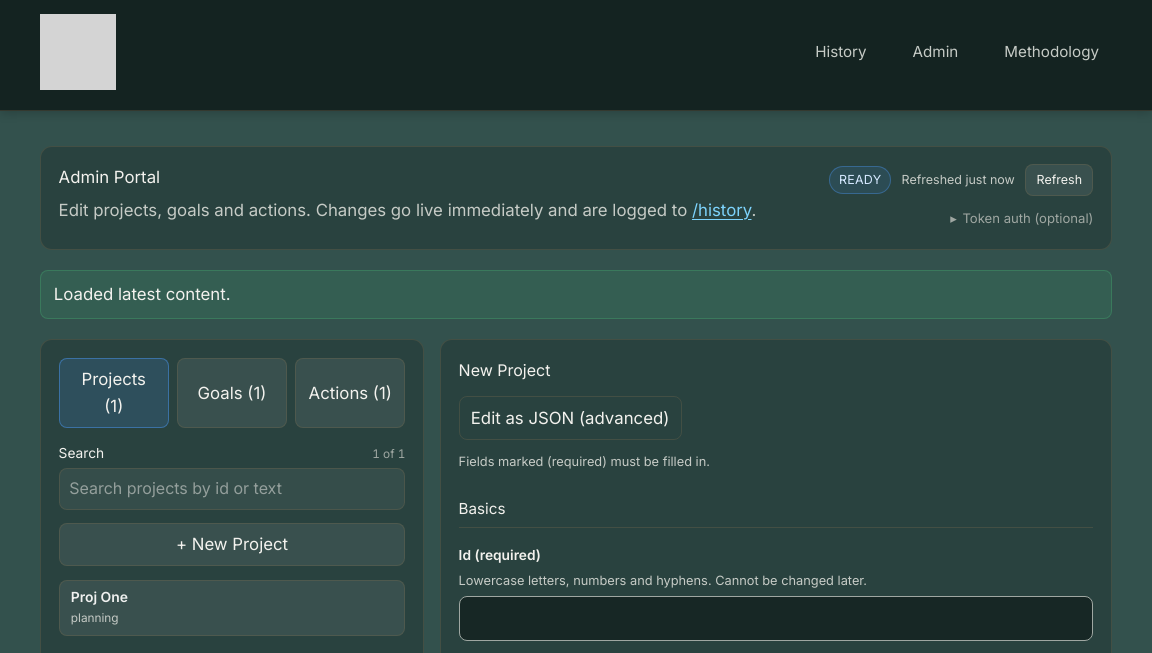
it: archive and restore › says unsaved changes will be lost when archiving an edited record
Step 1. Click the tab "Goals (1)" → (232, 393), box [177,358,287,428]
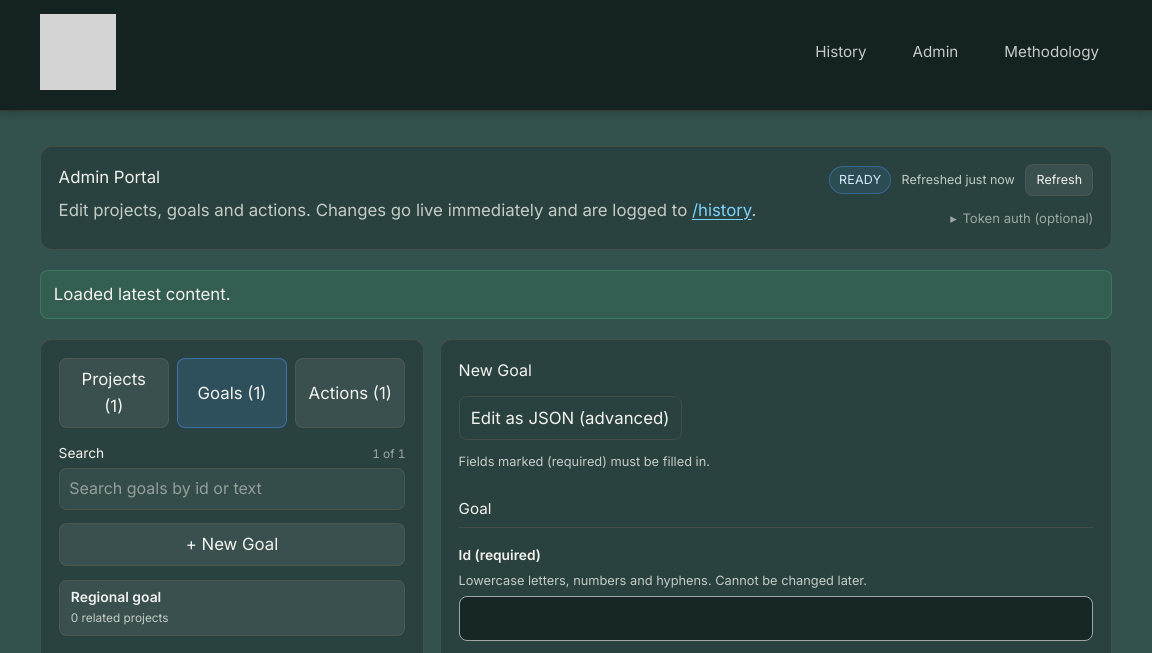
Step 2. Click the button "Regional goal 0 related projects" → (116, 597), box [59,580,405,636]
(page scrolled)
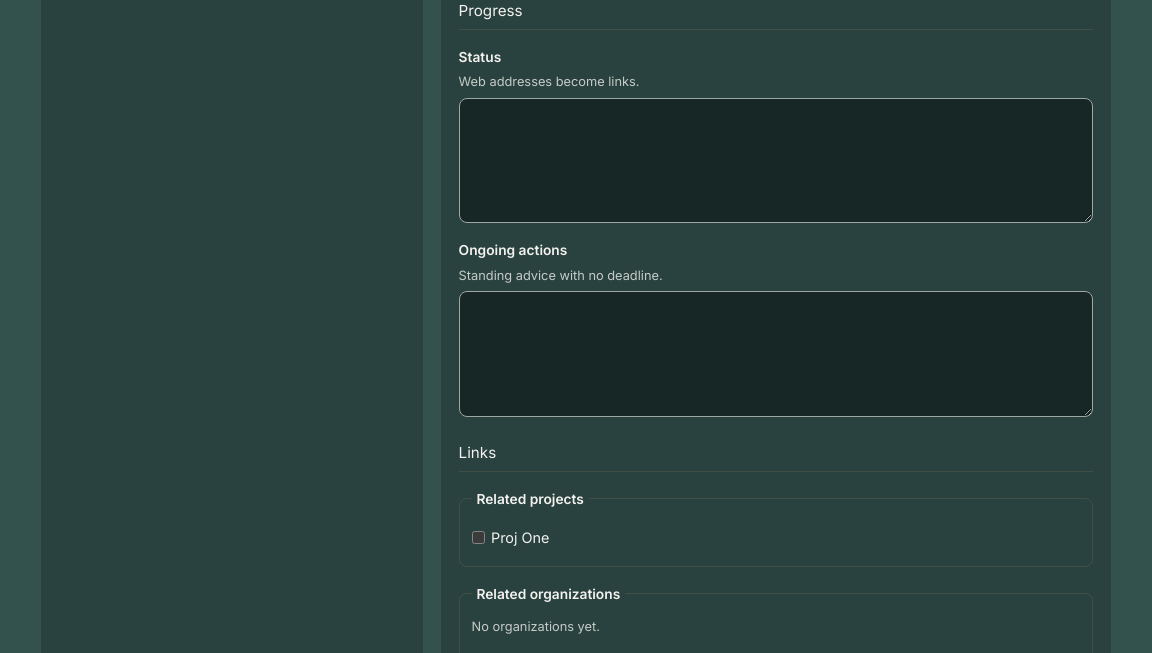
Step 3. Type "Mine" into the text box labelled "Ongoing actions" → (776, 354), box [459,291,1093,417]
(page scrolled)
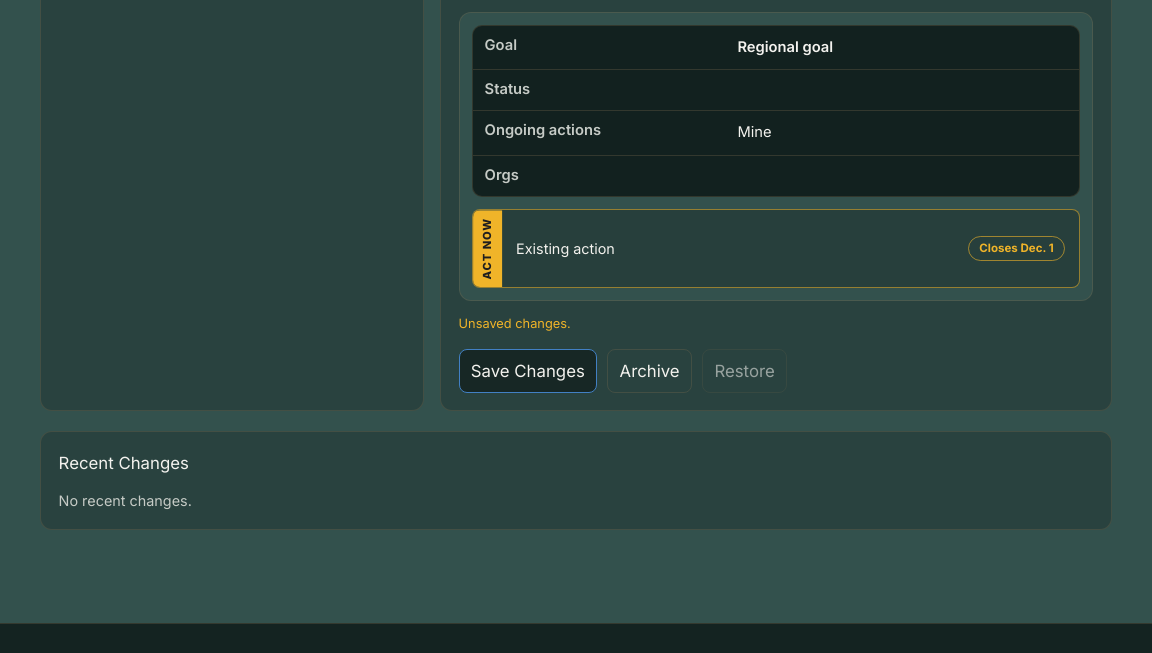
Step 4. Click the button "Archive" → (650, 371), box [607,349,692,393]
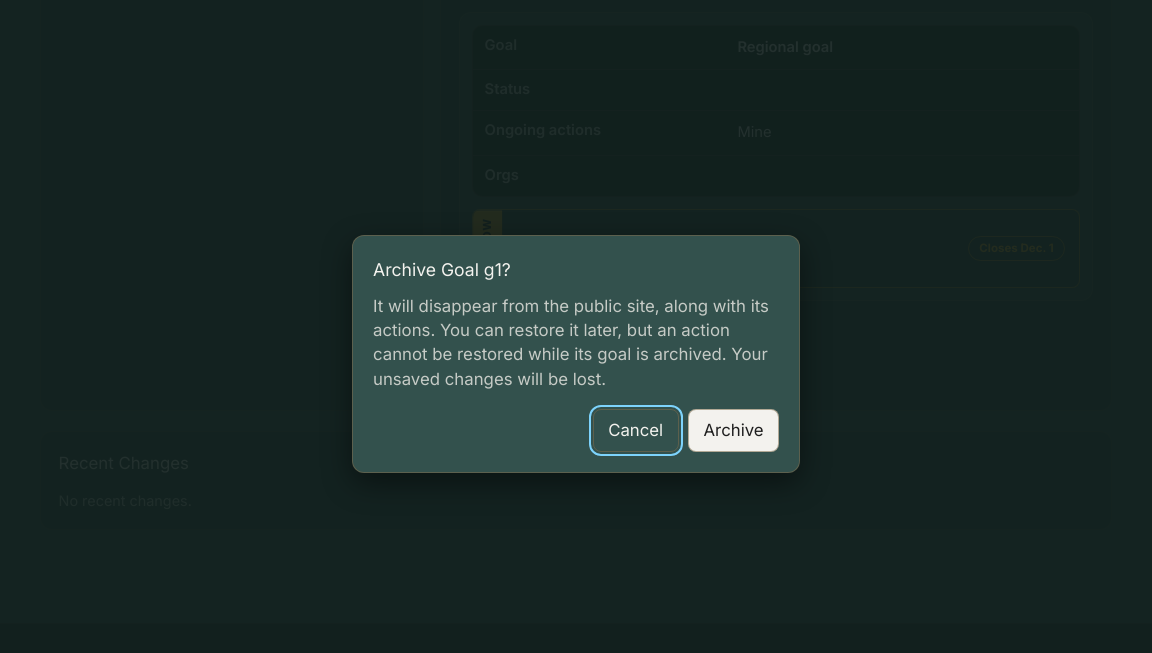
Check: the text "It will disappear from the public site, along with its actions. You can restore it later, but an action cannot be restor" is shown, box [373,296,769,389]
